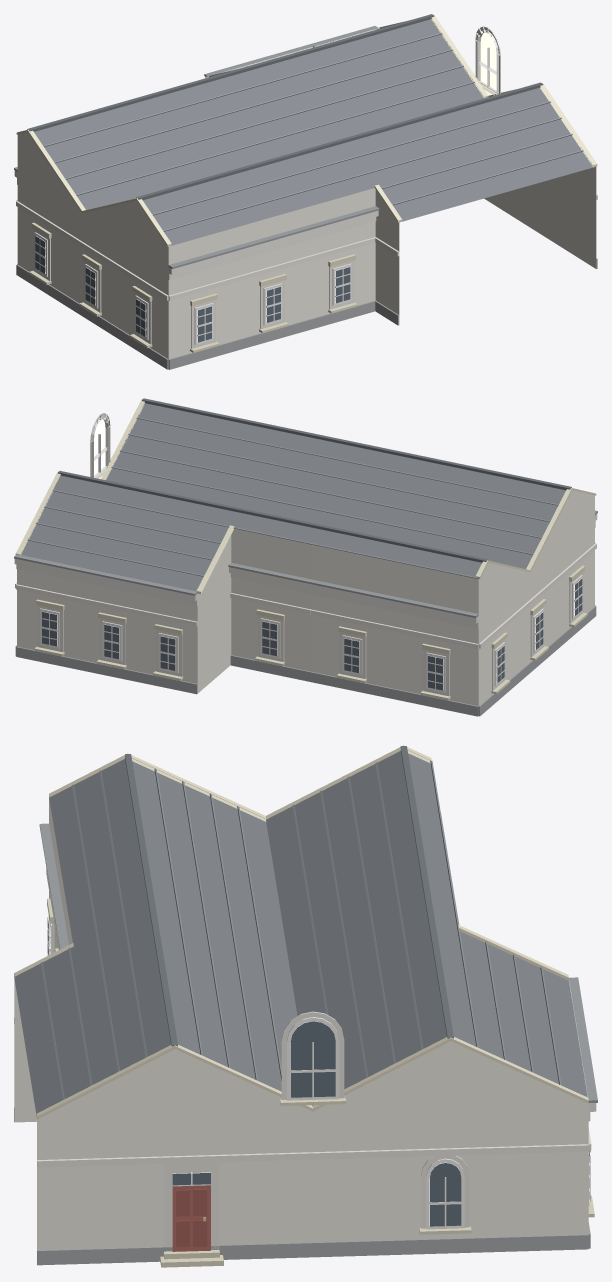
3 views of the same model, one above another, from view 1: azimuth 30°, elevation 25°; view 2: azimuth 150°, elevation 25°; view 3: azimuth 270°, elevation 25° (orthographic). The views are drawn at different scales.
Visible parts, largest first — view 1: slate, harl_cream, string, slate_lt, dress_buff, slate_dk, plinth, frame, lead, window_glass_014, window_glass_003; view 2: slate, harl_cream, string, plinth, slate_lt, dress_buff, slate_dk, frame, lead, window_glass_011, window_glass_007, window_glass_009 (+4 smaller); view 3: slate, harl_cream, slate_lt, string, dress_buff, plinth, slate_dk, window_glass_014, lead, frame, window_glass_015, door_red_dk_p (+1 smaller).
Boxes of the visible parts, x1=… form: slate: x1=34, y1=19, x2=593, y2=245; harl_cream: x1=17, y1=132, x2=596, y2=359; string: x1=14, y1=26, x2=597, y2=348; slate_lt: x1=43, y1=32, x2=583, y2=231; dress_buff: x1=16, y1=14, x2=597, y2=352; slate_dk: x1=27, y1=14, x2=543, y2=200; plinth: x1=16, y1=258, x2=597, y2=369; frame: x1=34, y1=30, x2=498, y2=344; lead: x1=14, y1=26, x2=379, y2=268; window_glass_014: x1=481, y1=32, x2=496, y2=90; window_glass_003: x1=335, y1=267, x2=350, y2=303; slate: x1=20, y1=403, x2=565, y2=591; harl_cream: x1=17, y1=490, x2=594, y2=706; string: x1=14, y1=413, x2=597, y2=696; plinth: x1=15, y1=605, x2=596, y2=716; slate_lt: x1=27, y1=417, x2=558, y2=578; dress_buff: x1=15, y1=399, x2=596, y2=700; slate_dk: x1=58, y1=398, x2=571, y2=562; frame: x1=40, y1=416, x2=582, y2=692; lead: x1=14, y1=510, x2=597, y2=617; window_glass_011: x1=104, y1=624, x2=119, y2=659; window_glass_007: x1=344, y1=638, x2=359, y2=672; window_glass_009: x1=262, y1=621, x2=277, y2=655; slate: x1=14, y1=751, x2=587, y2=1114; harl_cream: x1=14, y1=798, x2=588, y2=1250; slate_lt: x1=41, y1=760, x2=561, y2=1099; string: x1=14, y1=868, x2=596, y2=1250; dress_buff: x1=14, y1=745, x2=594, y2=1267; plinth: x1=14, y1=1107, x2=590, y2=1265; slate_dk: x1=125, y1=746, x2=453, y2=1046; window_glass_014: x1=290, y1=1021, x2=335, y2=1097; lead: x1=39, y1=814, x2=597, y2=1102; frame: x1=47, y1=916, x2=590, y2=1229; window_glass_015: x1=429, y1=1162, x2=461, y2=1226; door_red_dk_p: x1=176, y1=1189, x2=207, y2=1247.
Size of the model in its own units: 21 by 7.75 by 16.74.
